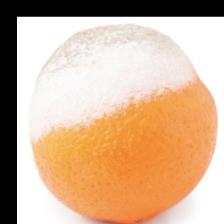orange: (33, 43, 220, 213)
